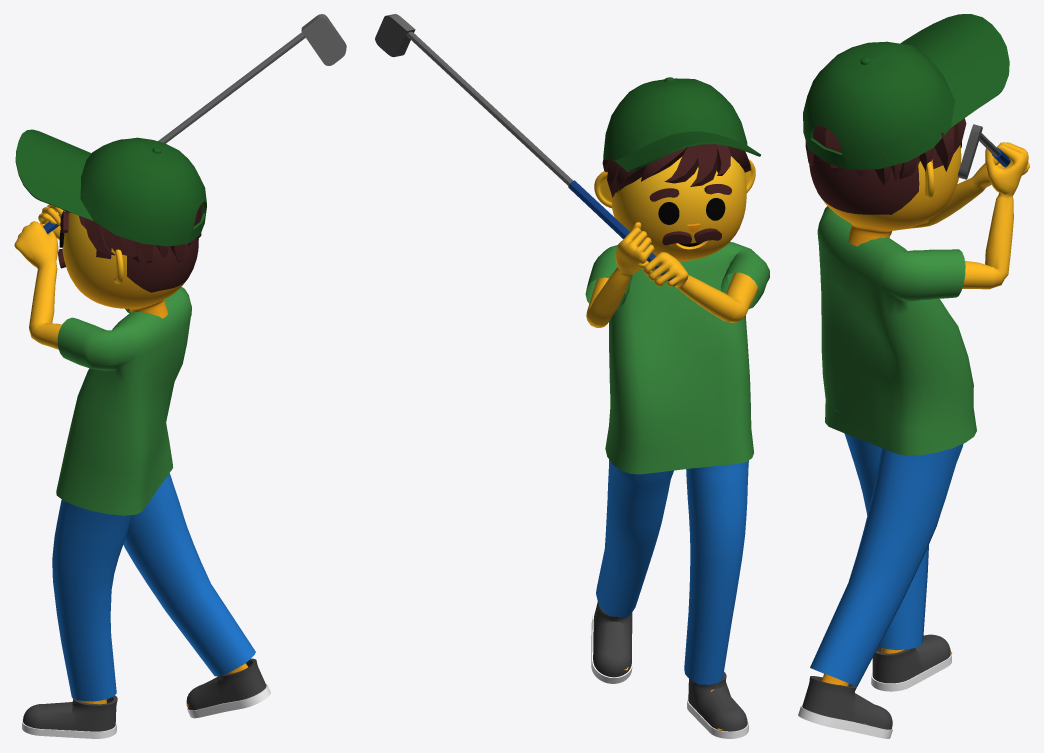
File: man_golfing.fbx
3 renders of one model, left to right at view 1: azimuth 30°, elevation 25°; view 2: azimuth 150°, elevation 25°; view 3: azimuth 270°, elevation 25°, orthographic. The views are drawn at different scales.
Visible parts, largest first — view 1: Circle.086, Circle.091, Circle.092, Roundcube.452, Sphere.377, Sphere.380, Cube.259, Cube.258; view 2: Circle.086, Circle.091, Circle.092, Roundcube.452, Cube.259, Cube.258, Sphere.380, Sphere.377, Circle.087, Cylinder.378, Circle.090; view 3: Circle.086, Circle.092, Circle.091, Roundcube.452, Sphere.380, Sphere.377, Cube.258, Cube.259.
Part boxes in pixels (left/top/right/bottom): Circle.086: left=14, top=204, right=247, bottom=707; Circle.091: left=52, top=473, right=255, bottom=701; Circle.092: left=15, top=129, right=206, bottom=246; Roundcube.452: left=62, top=212, right=198, bottom=318; Sphere.377: left=22, top=695, right=117, bottom=738; Sphere.380: left=186, top=658, right=270, bottom=718; Cube.259: left=43, top=14, right=346, bottom=233; Cube.258: left=61, top=203, right=202, bottom=262; Circle.086: left=585, top=222, right=769, bottom=730; Circle.091: left=596, top=459, right=748, bottom=684; Circle.092: left=603, top=77, right=760, bottom=171; Roundcube.452: left=611, top=156, right=746, bottom=261; Cube.259: left=375, top=14, right=677, bottom=286; Cube.258: left=602, top=144, right=750, bottom=197; Sphere.380: left=591, top=602, right=632, bottom=683; Sphere.377: left=687, top=672, right=748, bottom=738; Circle.087: left=658, top=198, right=725, bottom=224; Cylinder.378: left=594, top=159, right=755, bottom=208; Circle.090: left=662, top=228, right=721, bottom=245; Circle.086: left=817, top=142, right=1029, bottom=724; Circle.092: left=803, top=14, right=1009, bottom=169; Circle.091: left=810, top=410, right=963, bottom=686; Roundcube.452: left=809, top=145, right=961, bottom=246; Sphere.380: left=798, top=676, right=892, bottom=738; Sphere.377: left=871, top=634, right=951, bottom=691; Cube.258: left=805, top=118, right=966, bottom=185; Cube.259: left=957, top=124, right=1010, bottom=179.
Bounding box in the file's own units: 139 × 242 × 72.45.
Materials: 2 (2 with a texture image).
